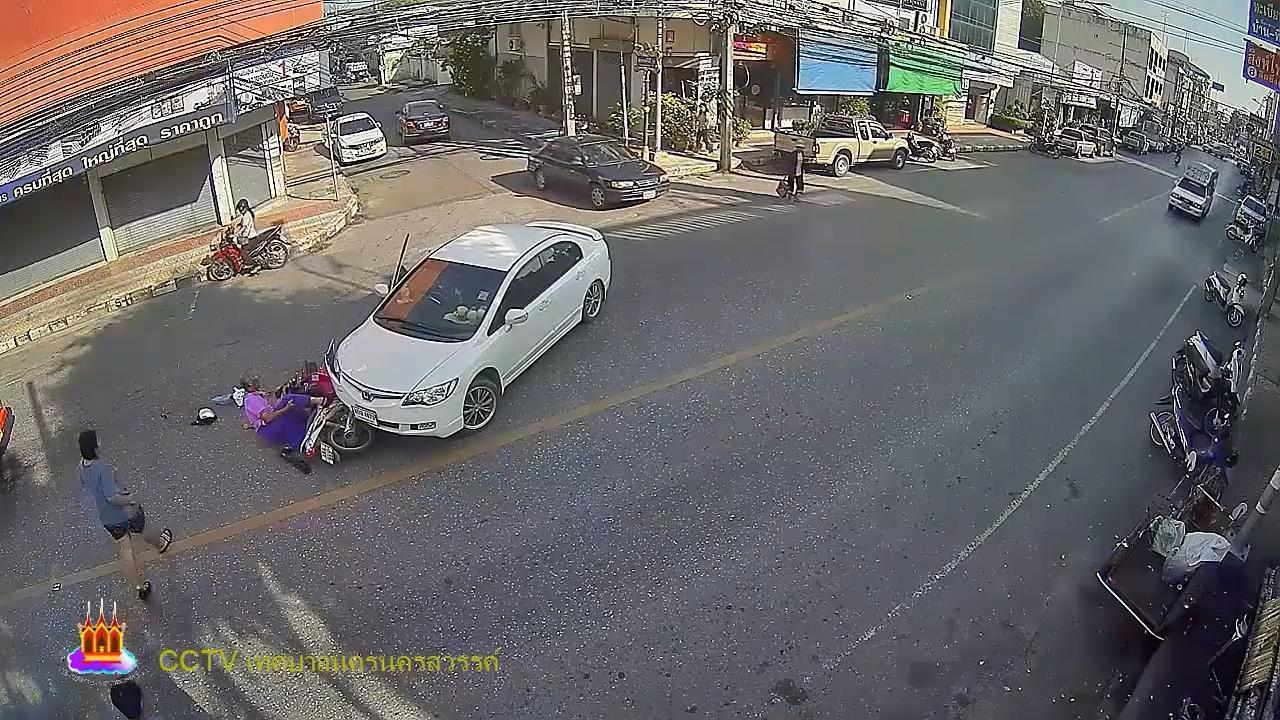accident: (237, 368, 329, 462)
